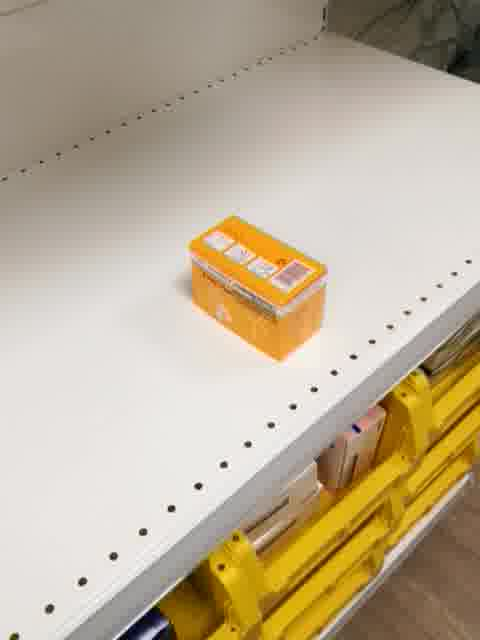jasminetea: (188, 214, 328, 363)
